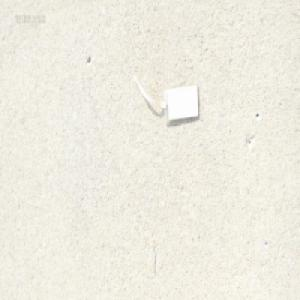LuggageTag: (129, 66, 199, 124)
